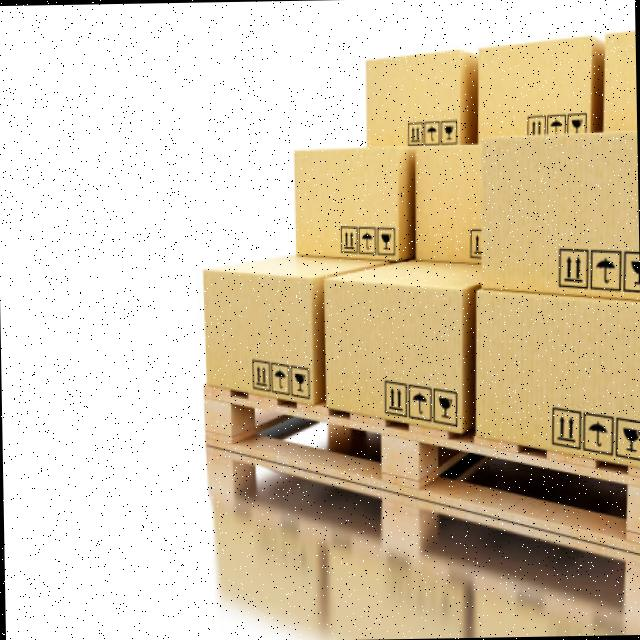Wooden-Pallets: (194, 384, 640, 563)
